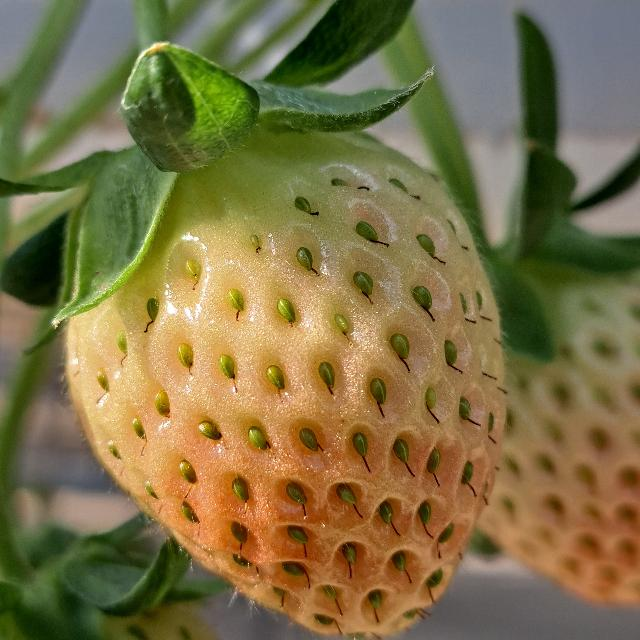Health_50: (67, 132, 506, 640)
